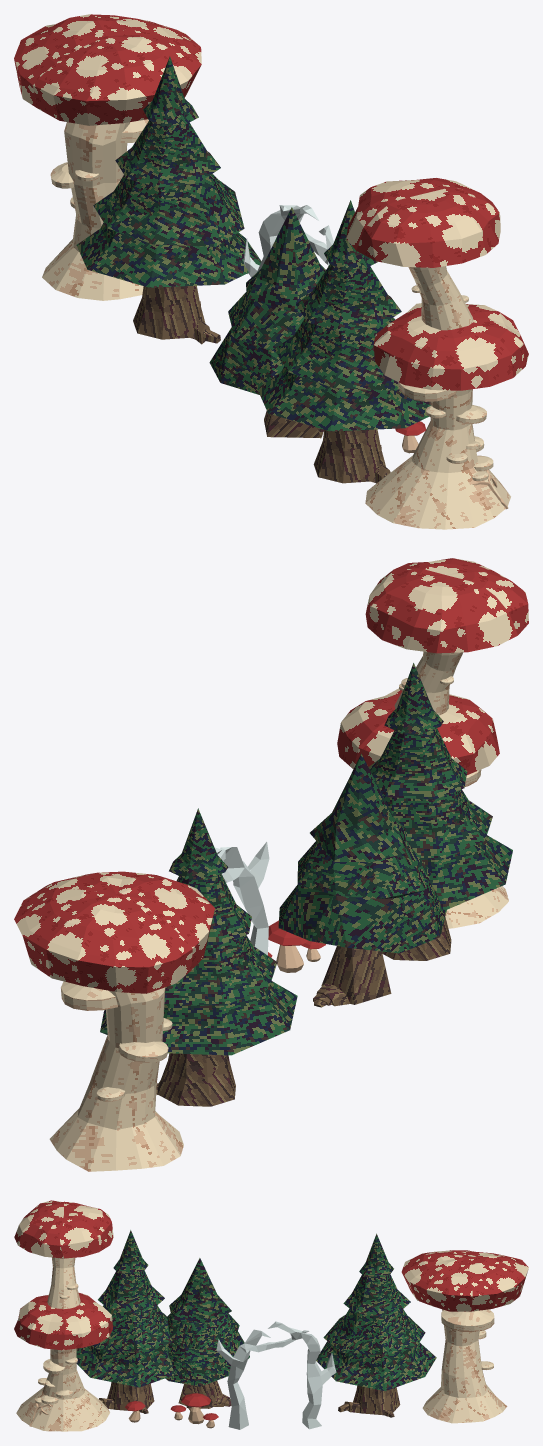
Rendered from mushroom_doorway.fbx.
3 views of the same model, one above another, from view 1: azimuth 30°, elevation 25°; view 2: azimuth 150°, elevation 25°; view 3: azimuth 270°, elevation 25° (orthographic). The views are drawn at different scales.
Visible parts, largest first — view 1: Mushroom_Large.002, Large_Tree.005, Mushroom_Mid.002, Large_Tree.004, Small_Tree.003, Stick_Doorway.002; view 2: Mushroom_Mid.002, Small_Tree.003, Mushroom_Large.002, Large_Tree.005, Large_Tree.004, Stick_Doorway.002, Mushroom_Small.009; view 3: Mushroom_Large.002, Mushroom_Mid.002, Large_Tree.005, Large_Tree.004, Small_Tree.003, Stick_Doorway.002, Mushroom_Small.009.
Boxes of the visible parts, x1,y1,x2,y2 form: Mushroom_Large.002: [346, 178, 528, 529]; Large_Tree.005: [76, 56, 261, 344]; Mushroom_Mid.002: [14, 14, 201, 300]; Large_Tree.004: [257, 200, 430, 483]; Small_Tree.003: [209, 207, 325, 438]; Stick_Doorway.002: [243, 205, 333, 277]; Mushroom_Mid.002: [14, 871, 214, 1171]; Small_Tree.003: [278, 754, 446, 1007]; Mushroom_Large.002: [337, 558, 528, 928]; Large_Tree.005: [100, 808, 297, 1106]; Large_Tree.004: [368, 663, 512, 960]; Stick_Doorway.002: [214, 842, 269, 955]; Mushroom_Small.009: [268, 920, 308, 972]; Mushroom_Large.002: [14, 1200, 113, 1431]; Mushroom_Mid.002: [401, 1250, 528, 1423]; Large_Tree.005: [316, 1233, 436, 1417]; Large_Tree.004: [76, 1230, 175, 1413]; Small_Tree.003: [165, 1258, 249, 1410]; Stick_Doorway.002: [216, 1321, 336, 1429]; Mushroom_Small.009: [181, 1393, 210, 1424].
Size of the model in its own units: 622 by 939 by 2164.
